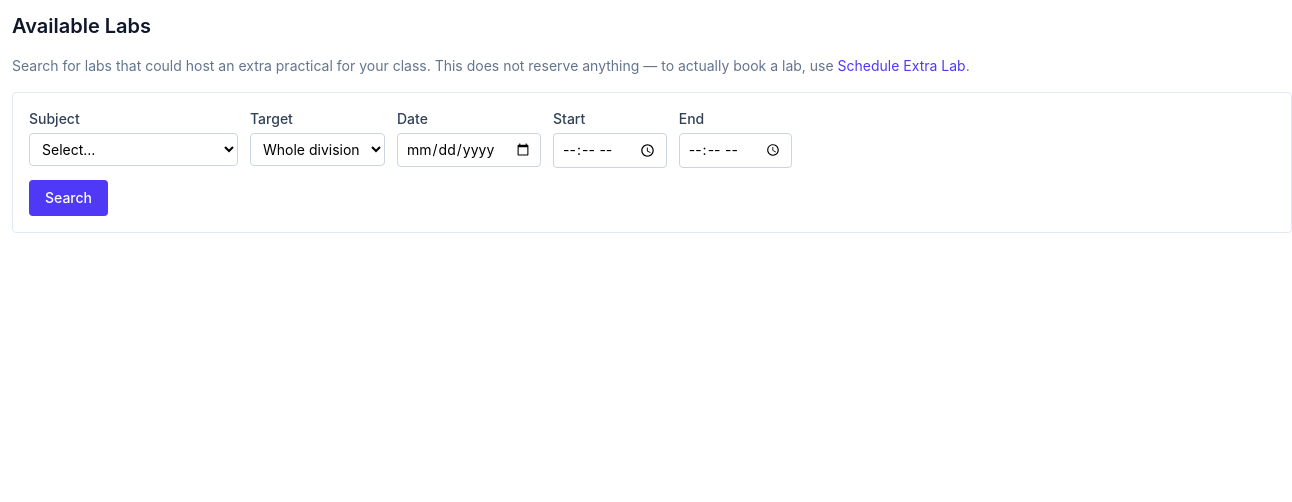
Test case: AvailableLabsPage - PART 61/62/63/64/65 (mandatory scenarios) › PART 62 (mandatory) - explains the BDA/Cloudera mismatch: B-101 rejected, C-202 valid and ranked
The width and height of the screenshot is (1292, 502).
Select "BDA — Big Data Analytics" in the dropdown labelled "Subject": {"x": 134, "y": 150} [29,133,238,166]
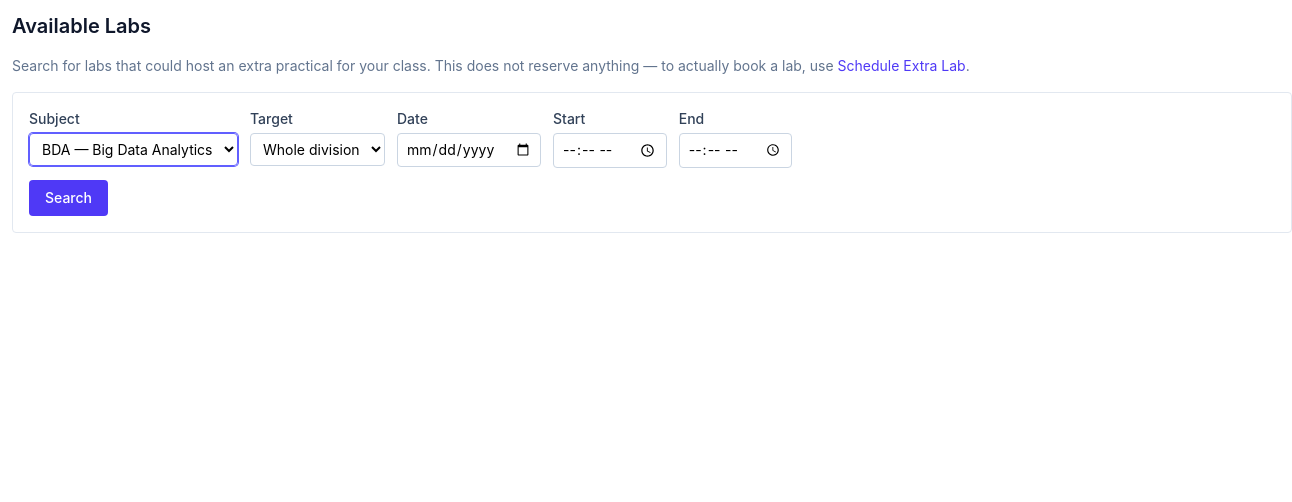
In the date field labelled "Date": {"x": 469, "y": 150} [397,133,541,167], type "2026-08-31"
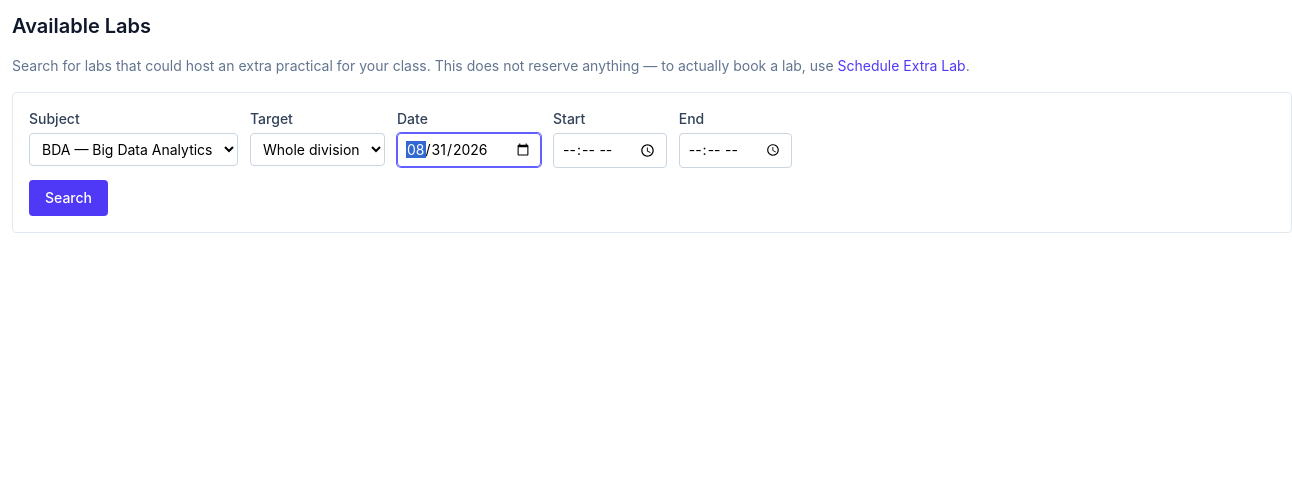
In the time field labelled "Start": {"x": 610, "y": 150} [553,133,667,168], type "09:00"
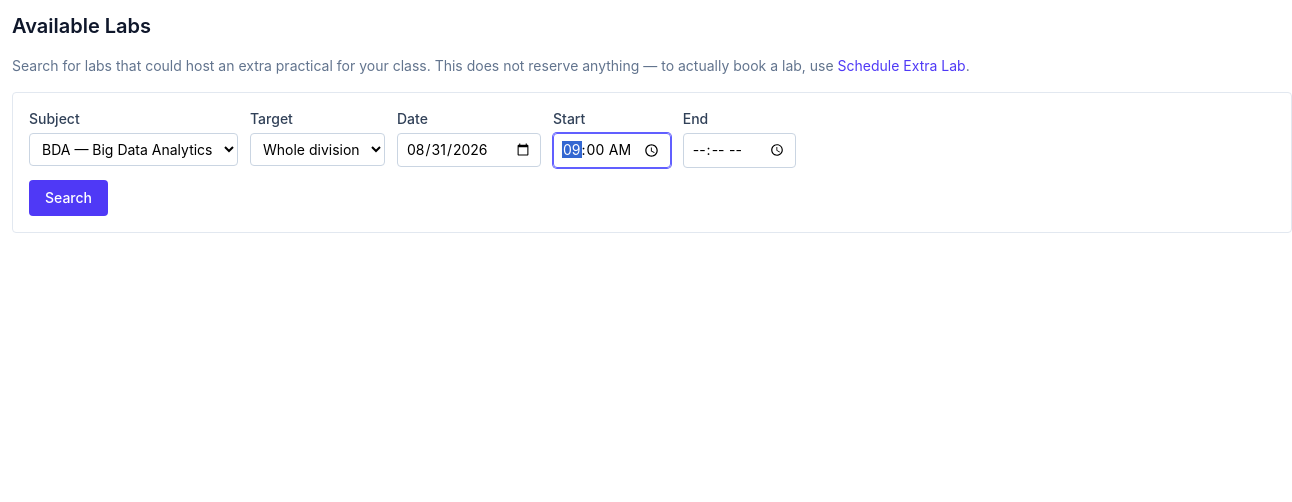
In the time field labelled "End": {"x": 740, "y": 150} [683,133,796,168], type "11:00"
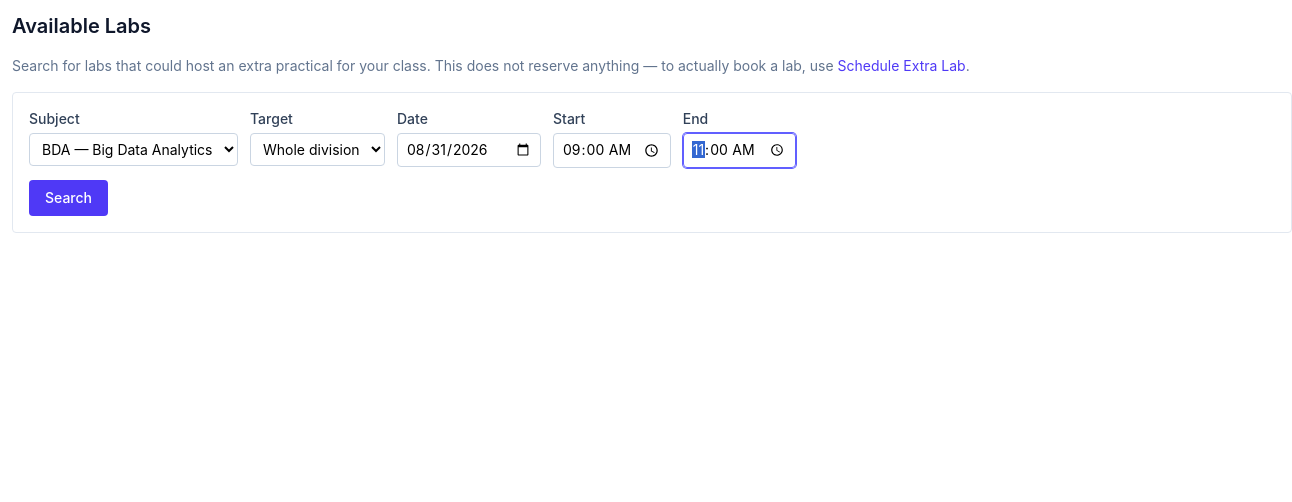
Click the button "Search": {"x": 68, "y": 198} [29,180,108,216]
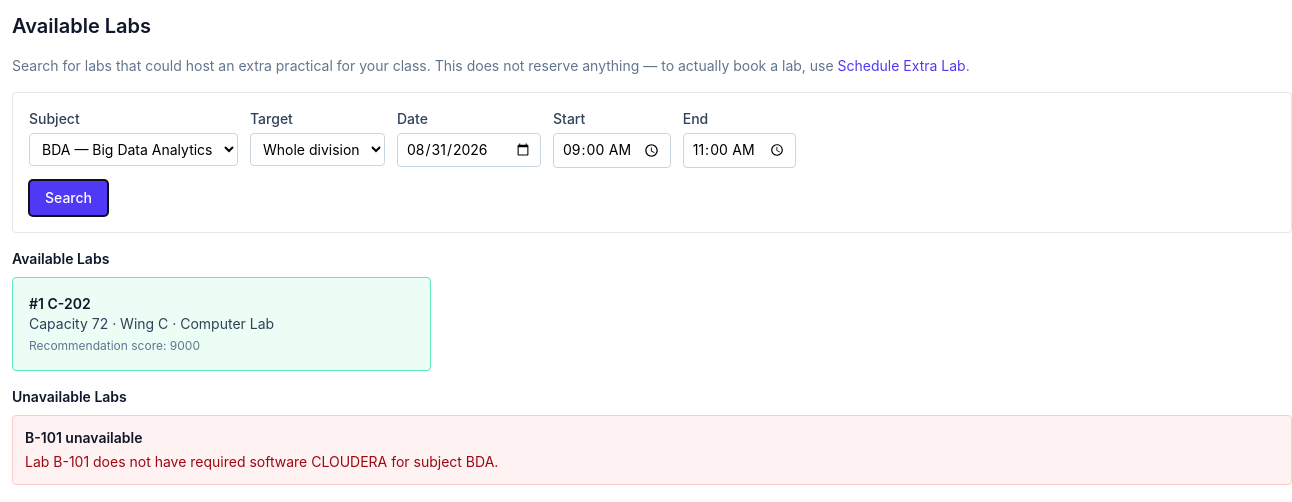
Now the text "#1 C-202" is shown, box [29,295,91,312]
Now the list item "does not have required software CLOUDERA for subject BDA" is shown, box [25,453,498,470]
Now the text "B-101 unavailable" is shown, box [25,429,142,446]
